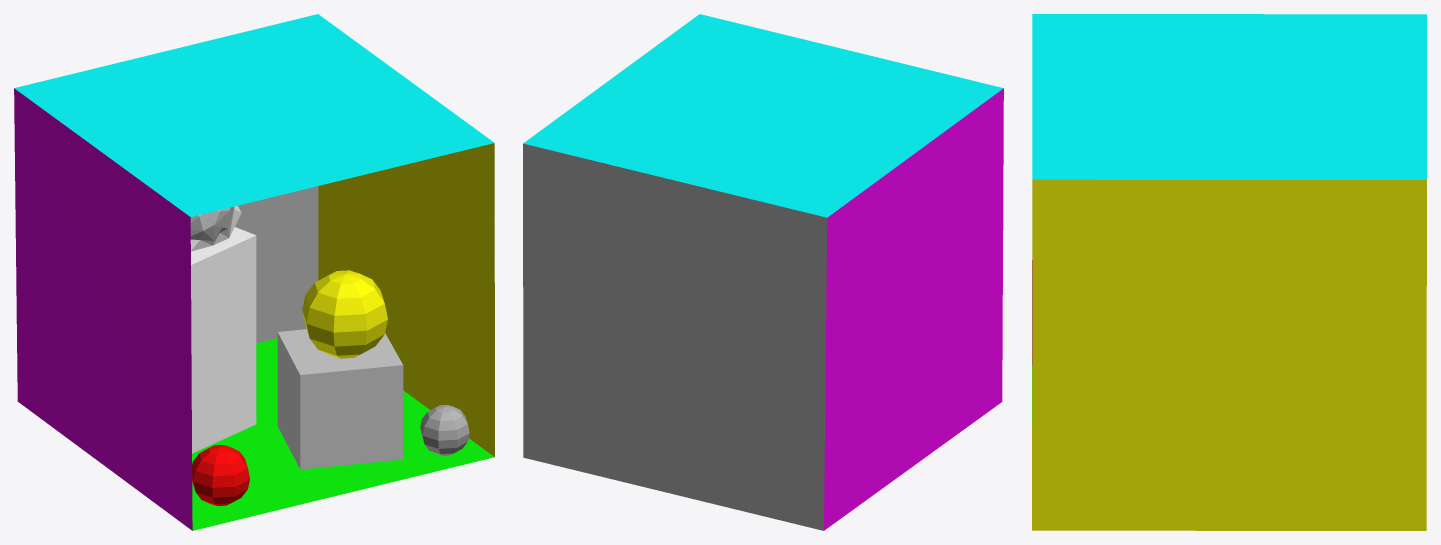
File: rabbit.obj
3 views of the same model, side by side, from view 1: azimuth 30°, elevation 25°; view 2: azimuth 150°, elevation 25°; view 3: azimuth 270°, elevation 25° (orthographic). The views are drawn at different scales.
Visible parts, largest first — view 1: left_wall, ceiling, right_wall, short_box, floor, tall_box, back_wall, sphere, sphere2, sphere3, bunny; view 2: back_wall, left_wall, ceiling; view 3: right_wall, ceiling.
Boxes of the visible parts, x1=… form: left_wall: x1=14, y1=88, x2=192, y2=530; ceiling: x1=14, y1=14, x2=494, y2=216; right_wall: x1=318, y1=143, x2=494, y2=456; short_box: x1=277, y1=329, x2=403, y2=469; floor: x1=192, y1=338, x2=494, y2=530; tall_box: x1=191, y1=227, x2=256, y2=453; back_wall: x1=235, y1=186, x2=318, y2=343; sphere: x1=302, y1=270, x2=387, y2=358; sphere2: x1=192, y1=445, x2=249, y2=505; sphere3: x1=420, y1=404, x2=469, y2=455; bunny: x1=190, y1=205, x2=241, y2=251; back_wall: x1=523, y1=143, x2=827, y2=530; left_wall: x1=824, y1=88, x2=1003, y2=530; ceiling: x1=523, y1=14, x2=1003, y2=217; right_wall: x1=1032, y1=179, x2=1426, y2=530; ceiling: x1=1032, y1=14, x2=1426, y2=179.
Size of the model in its own units: 5.56 by 5.49 by 5.6.
